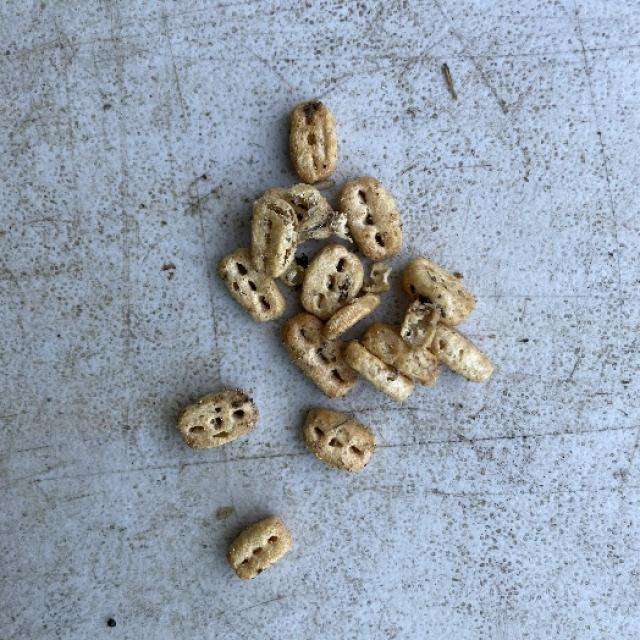organik: (180, 388, 262, 452), (227, 510, 300, 580), (304, 410, 378, 472), (288, 98, 338, 182)
